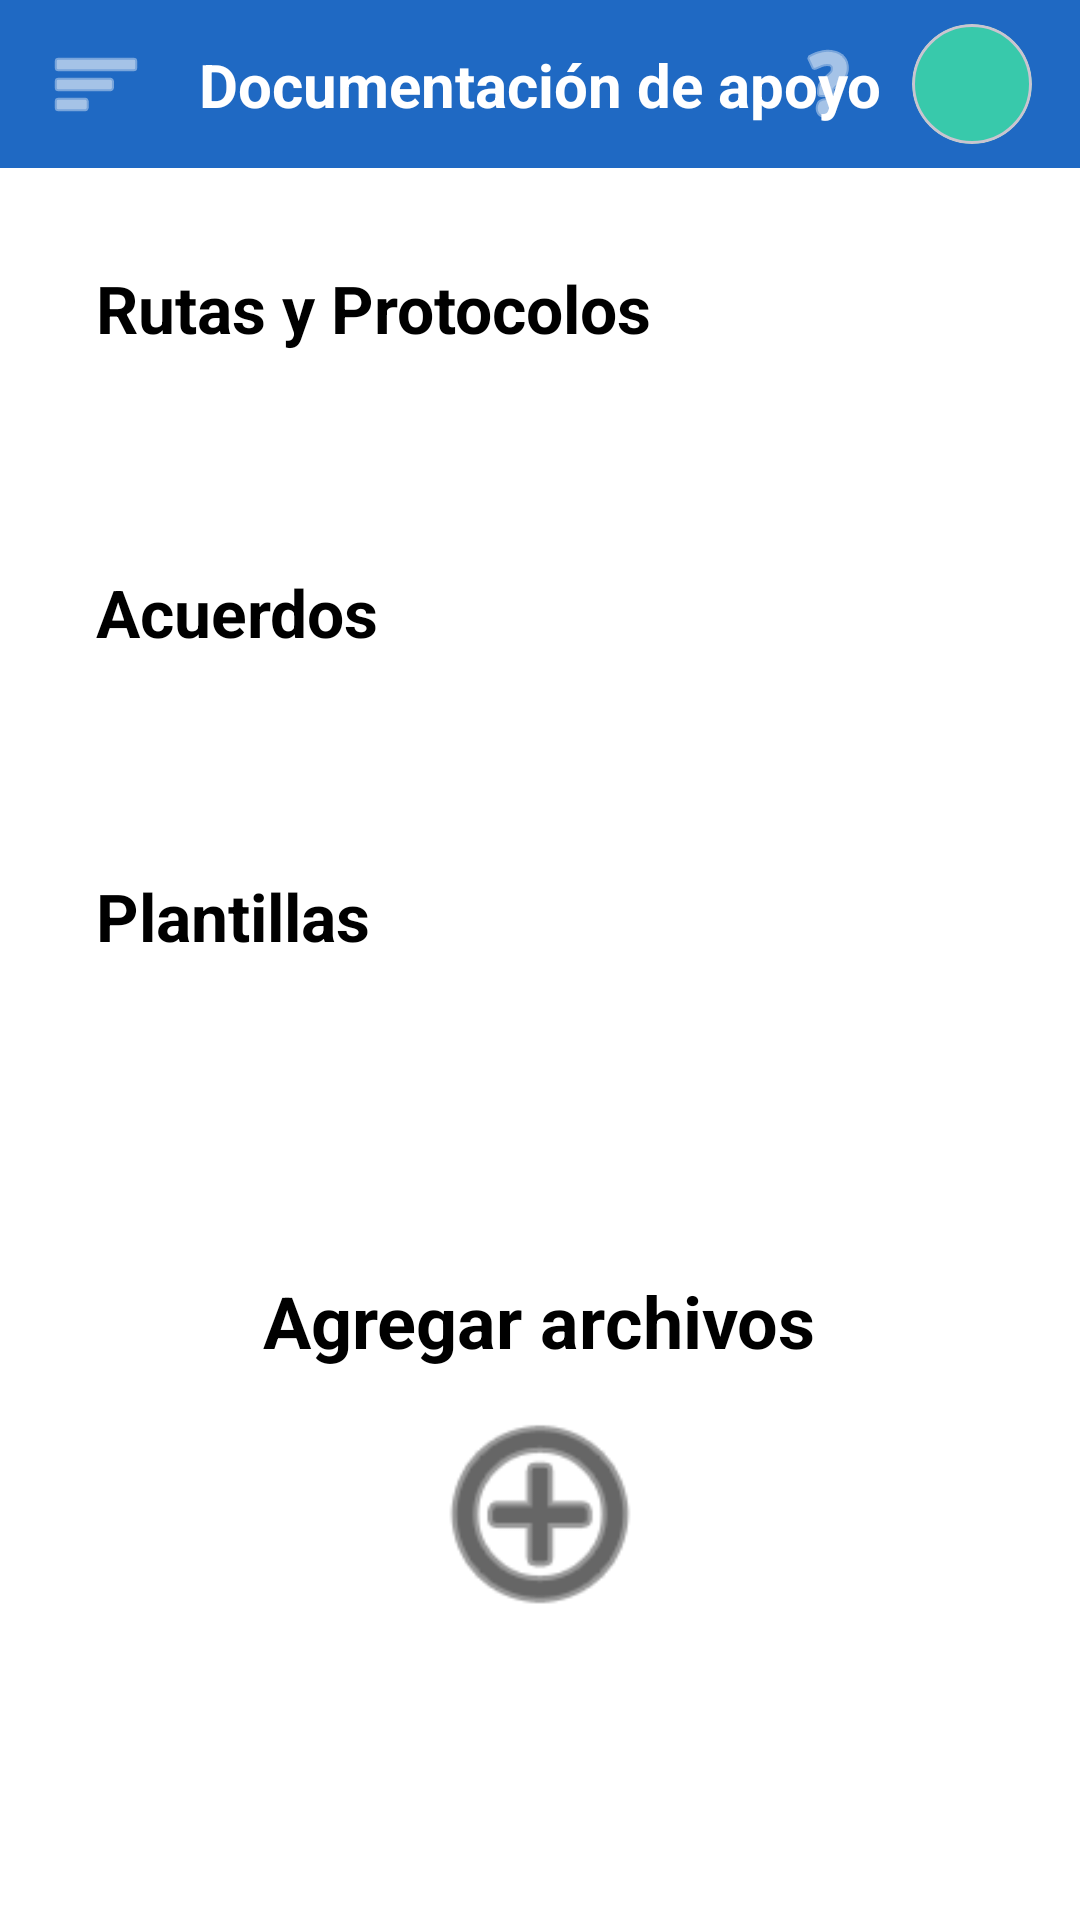

Icon click points for this 1080w x 1920h phone screenshot, format point (x, y):
Menú de navegación: point (96, 84)
